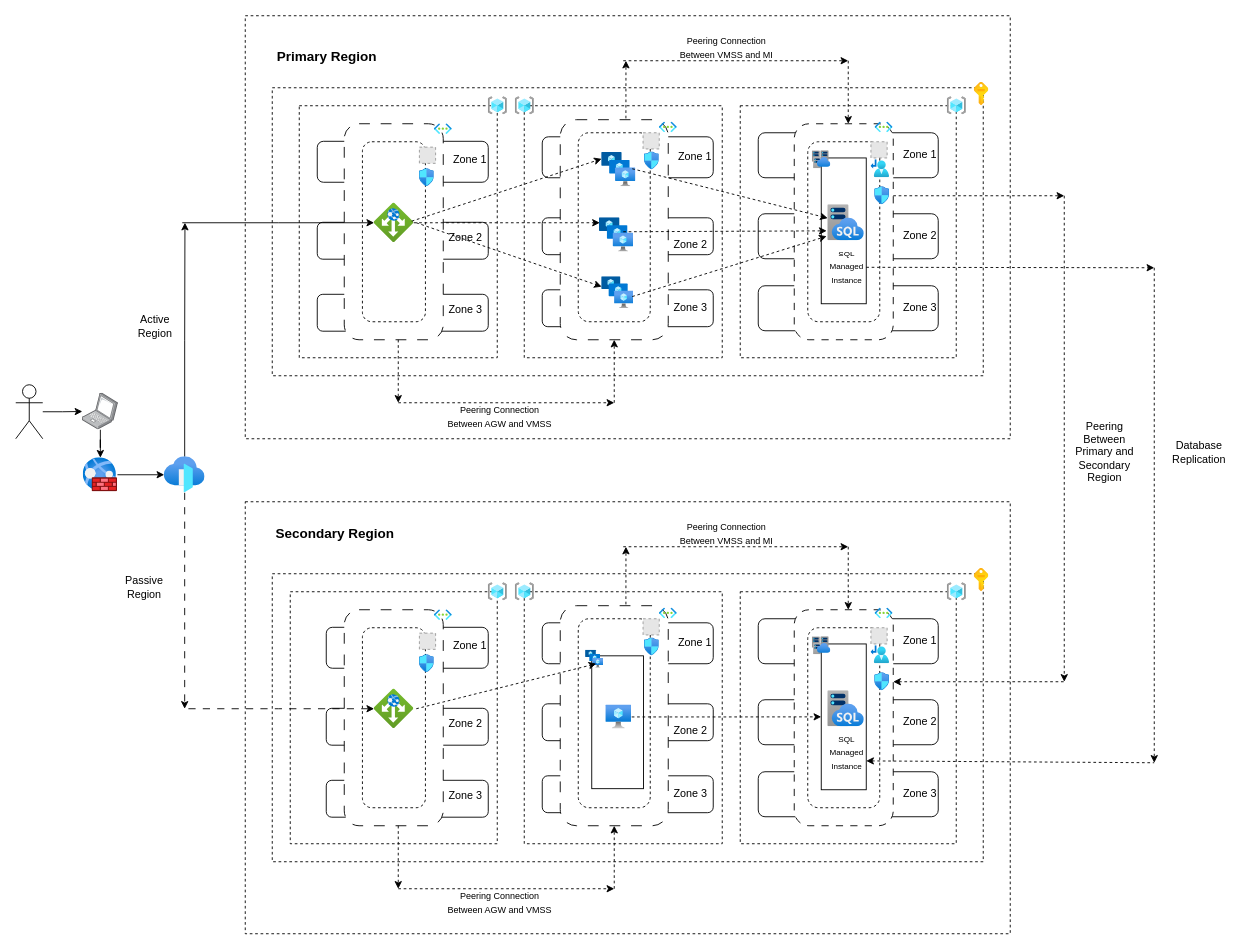
Image size: 1242x950. Some labels were removed from this diagram. Grey dashed boxes stand in for pictures. The centre of each missing label's shape, as x and y in pixels:
"Actor" belongs at point (29, 411).
"AGW" belongs at point (393, 708).
"VM" belongs at point (618, 716).
"WAF" belongs at point (100, 474).
